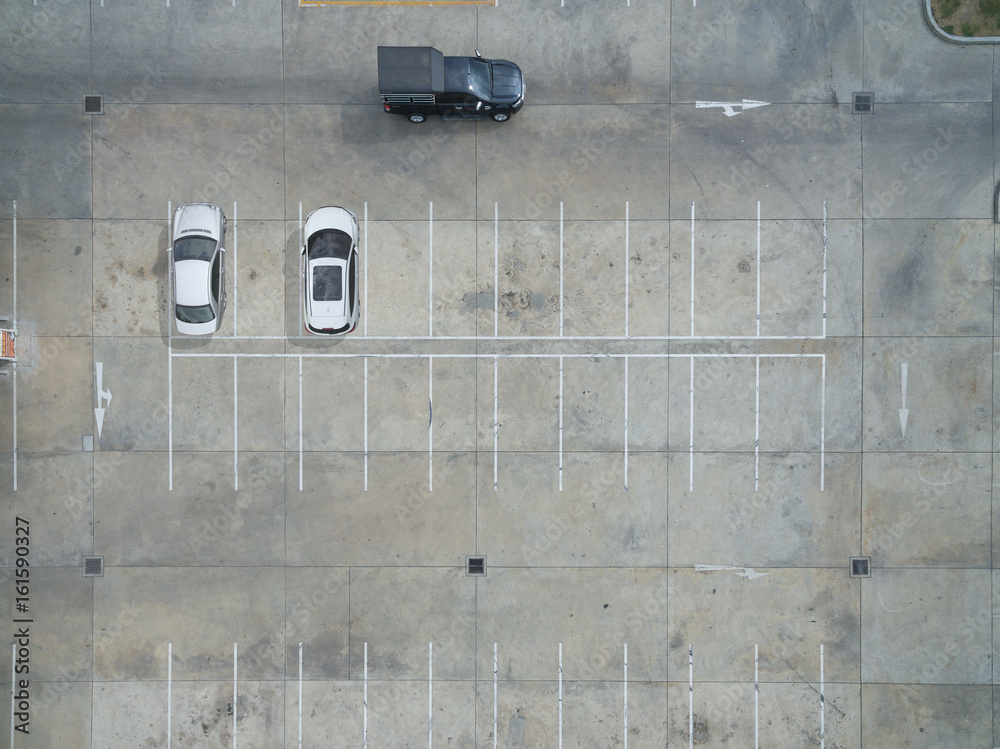bos: (167, 204, 238, 338), (299, 205, 367, 342)
dolu: (623, 354, 694, 493), (558, 354, 628, 494), (754, 354, 825, 492), (363, 354, 432, 496), (756, 206, 828, 342), (689, 353, 759, 492), (234, 354, 303, 494), (493, 355, 563, 493), (559, 206, 630, 341), (495, 204, 565, 340), (233, 204, 302, 341), (429, 354, 497, 493), (363, 204, 433, 338), (691, 207, 762, 339), (624, 208, 696, 338), (429, 205, 498, 340), (299, 354, 366, 493), (171, 356, 237, 489), (687, 646, 760, 749), (557, 644, 628, 749), (363, 644, 432, 749), (622, 647, 693, 749), (428, 646, 498, 749), (493, 646, 563, 749), (755, 645, 824, 749), (298, 647, 368, 749), (169, 646, 238, 749), (233, 647, 302, 749)
